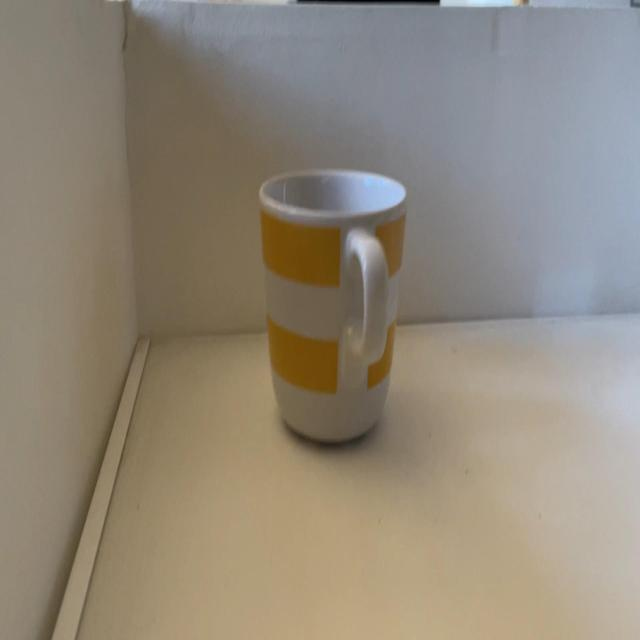cup: (258, 162, 408, 448)
